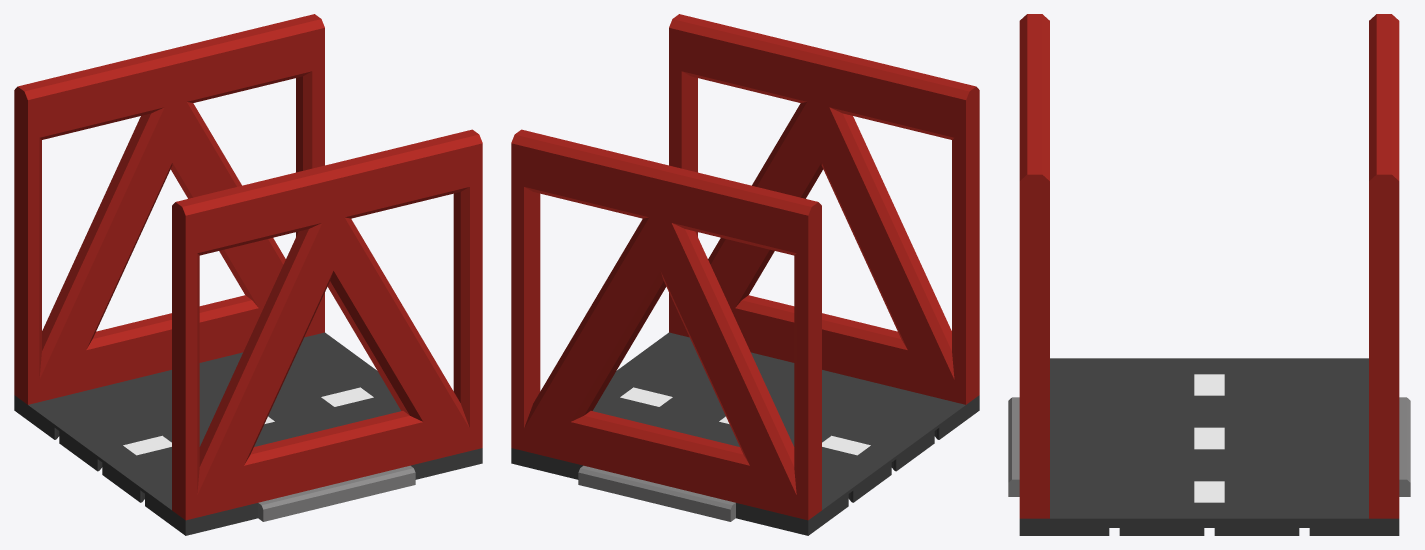
Rendered from 10x10 Bridge Street.obj.
3 views of the same model, side by side, from view 1: azimuth 30°, elevation 25°; view 2: azimuth 150°, elevation 25°; view 3: azimuth 270°, elevation 25° (orthographic). The views are drawn at different scales.
Parts seen in each view (by area): view 1: Körper1:3, Körper1, Körper1:2, Körper1:4, Körper3, Körper2; view 2: Körper1, Körper1:3, Körper1:2, Körper1:1, Körper3, Körper2; view 3: Körper1:2, Körper1, Körper1:3, Körper1:1, Körper1:4, Körper1:5, Körper2, Körper3.
Boxes of the visible parts, x1=… form: Körper1:3: x1=172, y1=129, x2=482, y2=520; Körper1: x1=14, y1=14, x2=324, y2=404; Körper1:2: x1=14, y1=332, x2=482, y2=535; Körper1:4: x1=258, y1=465, x2=415, y2=521; Körper3: x1=321, y1=387, x2=373, y2=406; Körper2: x1=123, y1=435, x2=171, y2=455; Körper1: x1=511, y1=129, x2=821, y2=520; Körper1:3: x1=669, y1=14, x2=979, y2=404; Körper1:2: x1=511, y1=332, x2=979, y2=535; Körper1:1: x1=578, y1=465, x2=735, y2=521; Körper3: x1=620, y1=387, x2=672, y2=406; Körper2: x1=822, y1=435, x2=870, y2=455; Körper1:2: x1=1019, y1=358, x2=1399, y2=535; Körper1: x1=1369, y1=14, x2=1399, y2=518; Körper1:3: x1=1019, y1=14, x2=1049, y2=518; Körper1:1: x1=1399, y1=397, x2=1410, y2=496; Körper1:4: x1=1008, y1=397, x2=1019, y2=496; Körper1:5: x1=1194, y1=427, x2=1224, y2=449; Körper2: x1=1194, y1=374, x2=1224, y2=395; Körper3: x1=1194, y1=481, x2=1224, y2=502.
Bounding box in the file's own units: 100 × 105 × 106.
